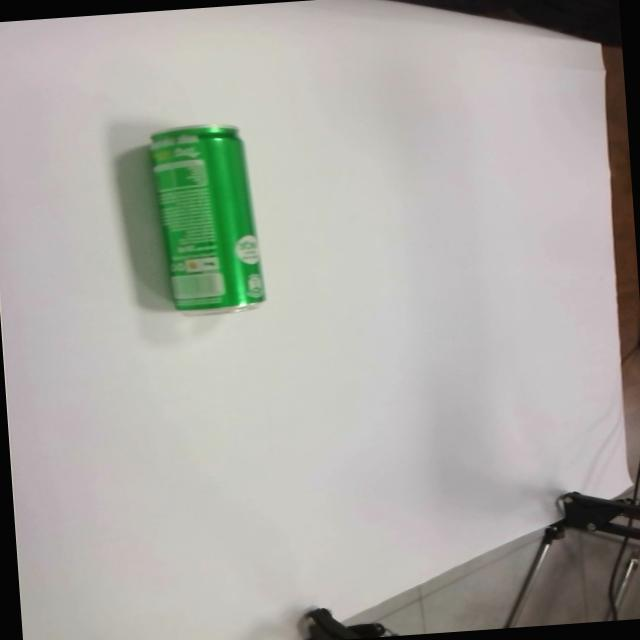debris: (109, 119, 266, 321)
